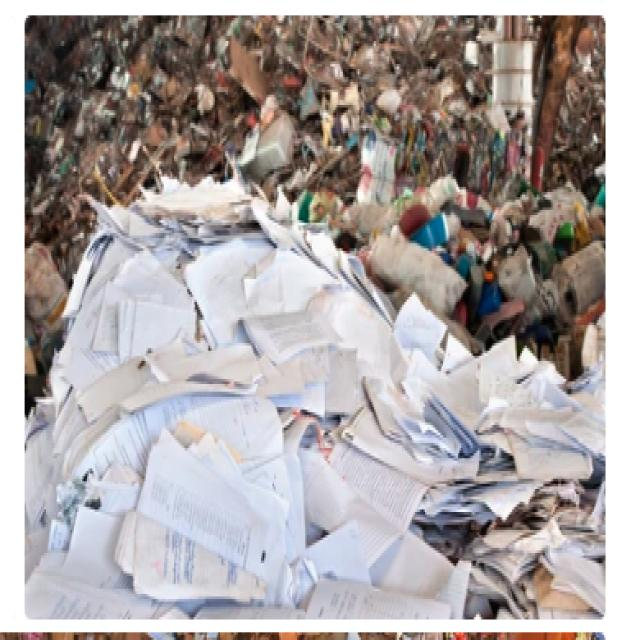KertasBekas: (24, 18, 606, 619)
